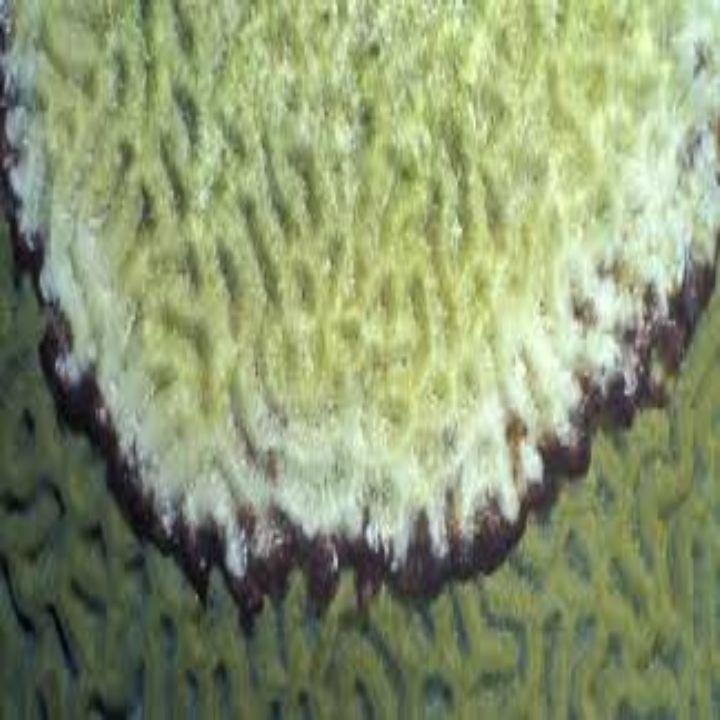Band disease: (1, 1, 720, 624)
